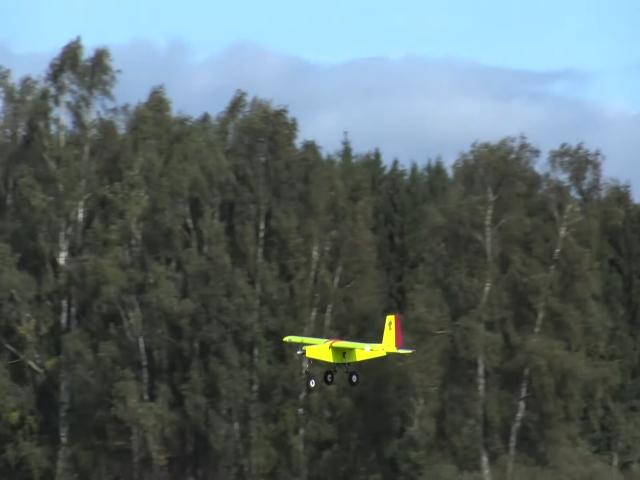plane: (281, 316, 416, 388)
